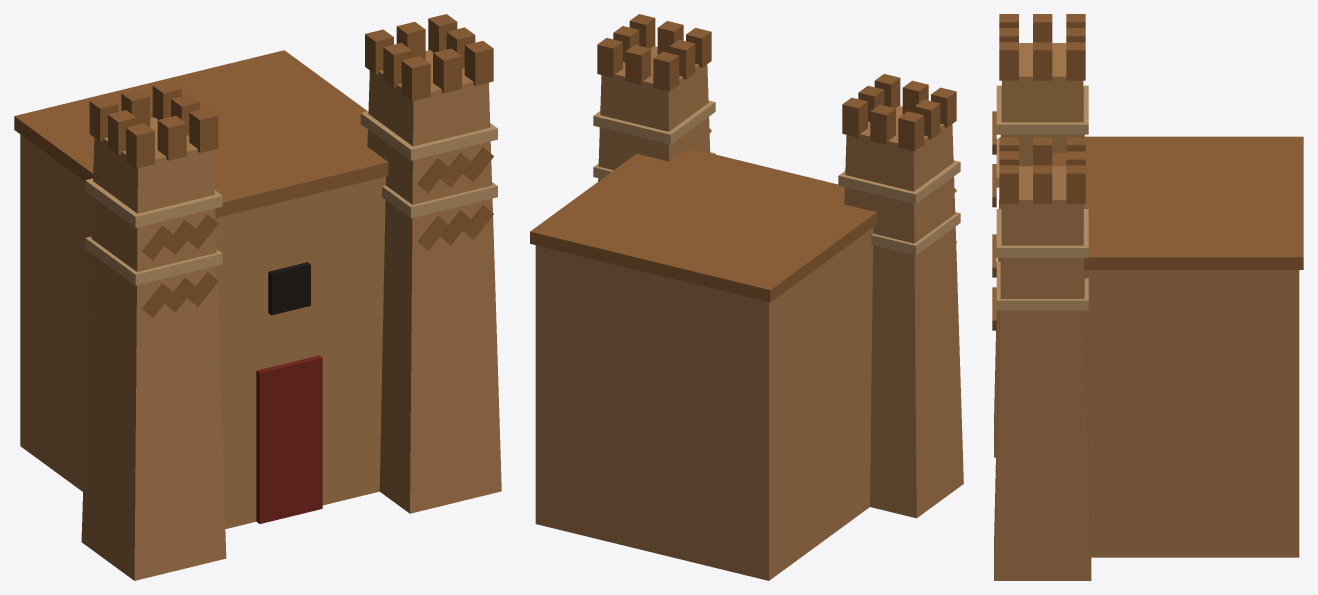
Rendered from fennec_house_b.glb.
The picture shows the model from 3 angles, left to right: view 1: azimuth 30°, elevation 25°; view 2: azimuth 150°, elevation 25°; view 3: azimuth 270°, elevation 25°; orthographic projection. The views are drawn at different scales.
Parts seen in each view (by area): view 1: fennec_house_b; view 2: fennec_house_b; view 3: fennec_house_b.
Part boxes in pixels (box(x1,y1,x2,y2)): fennec_house_b: box(14, 14, 501, 580); fennec_house_b: box(530, 14, 963, 580); fennec_house_b: box(992, 14, 1303, 580).
Bounding box in the file's own units: 2.8 × 3.22 × 2.24.
